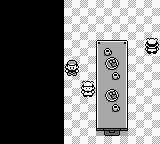main: (65, 61, 79, 76)
no-caminable: (2, 0, 64, 142), (96, 40, 128, 135)
npc: (81, 81, 95, 97), (145, 39, 159, 54)
